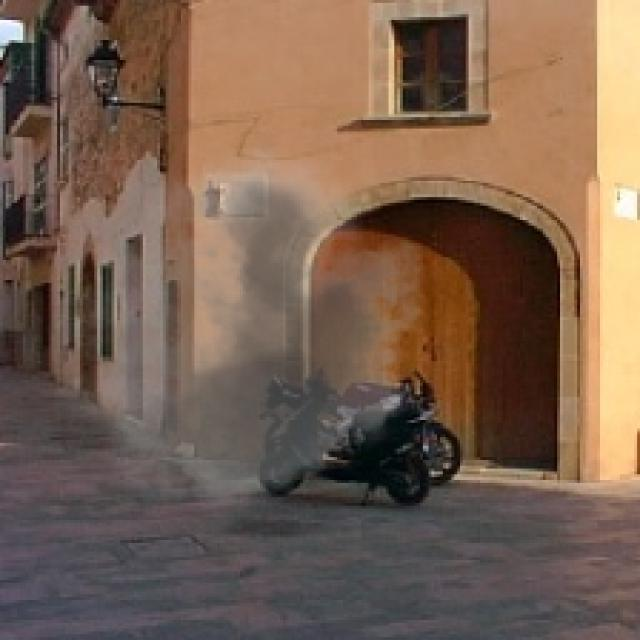Smoke: (51, 146, 443, 523)
